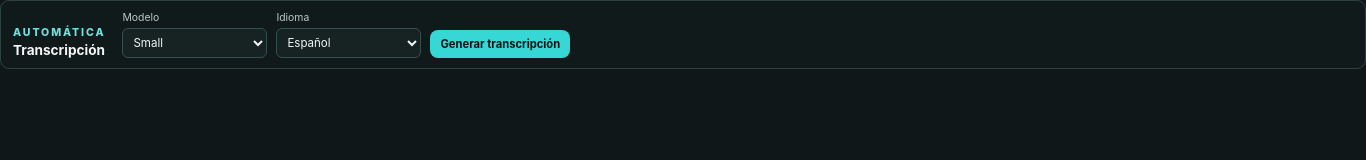
Test case: transcription panel › shows a readable error when the backend rejects the start request
Click the button "Generar transcripción" at (500, 44), box [430,30,570,58]
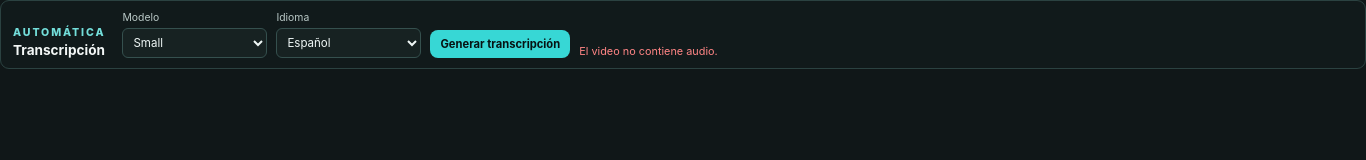
Now the message reads "El video no contiene audio.", box [579,44,718,58]
